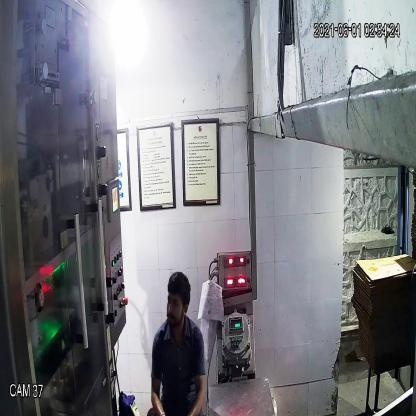no_goggles: (165, 292, 184, 312)
